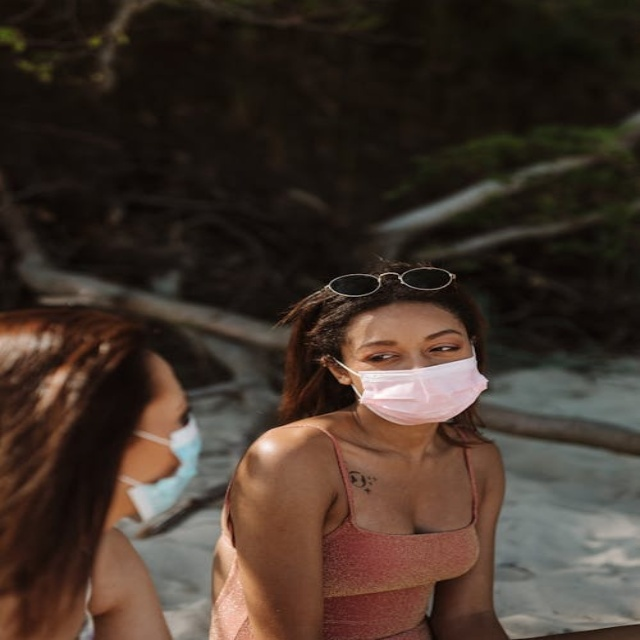Mascara: (332, 341, 489, 426), (115, 415, 204, 527)
Sin_gafas: (353, 328, 467, 364)
